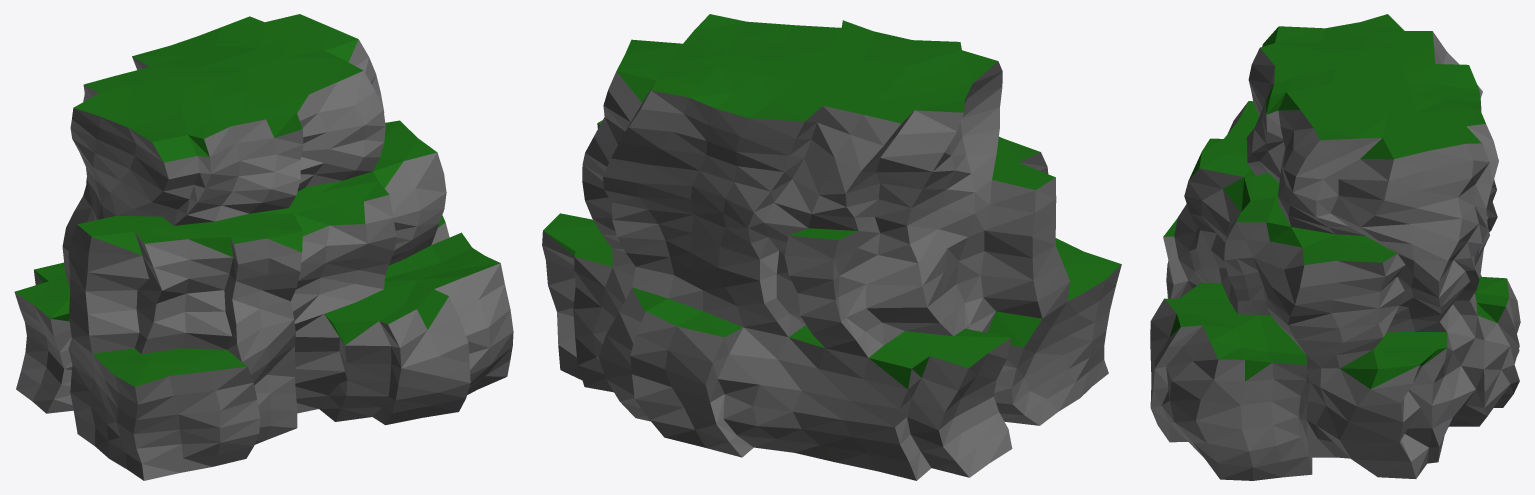
File: Wallrock1.fbx
3 renders of one model, left to right at view 1: azimuth 30°, elevation 25°; view 2: azimuth 150°, elevation 25°; view 3: azimuth 270°, elevation 25°, orthographic. The views are drawn at different scales.
Parts seen in each view (by area): view 1: Plane, Plane.001; view 2: Plane, Plane.001; view 3: Plane, Plane.001.
Part boxes in pixels (left/top/right/bottom): Plane: left=14, top=39, right=513, bottom=480; Plane.001: left=15, top=14, right=500, bottom=386; Plane: left=542, top=61, right=1121, bottom=480; Plane.001: left=543, top=14, right=1121, bottom=389; Plane: left=1150, top=31, right=1520, bottom=480; Plane.001: left=1163, top=14, right=1509, bottom=389.
Size of the model in its own units: 2763 by 1958 by 2182.
